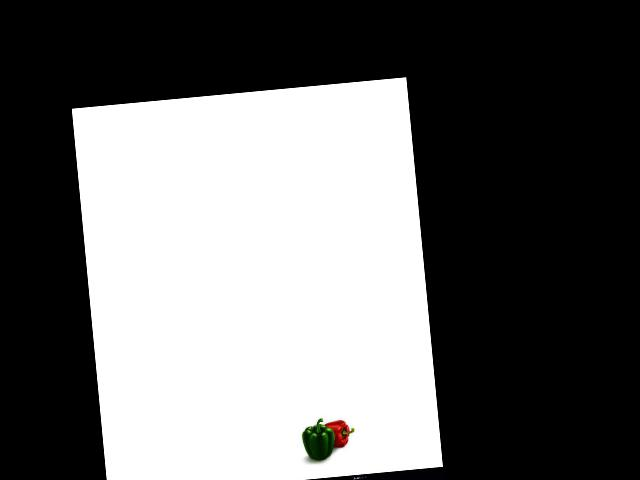bell_pepper: (322, 415, 355, 447)
